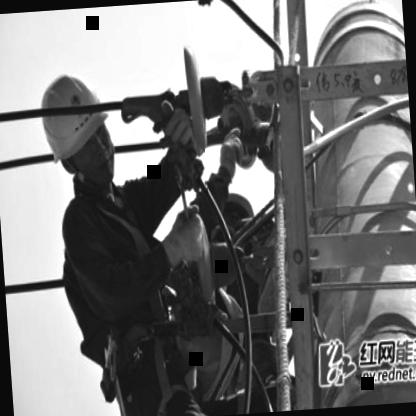helmet: (40, 68, 122, 188)
